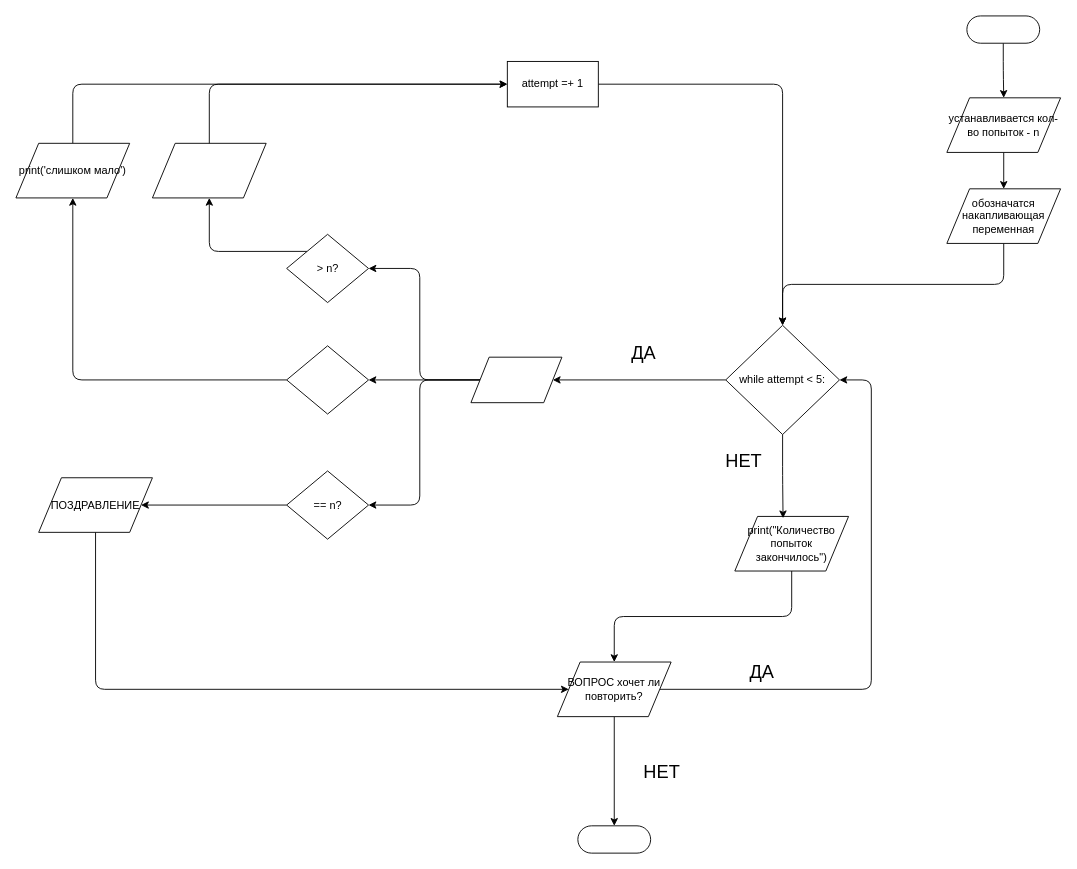
Some shapes in this 1077 by 869 pixel diagram are drawn without their labels. The centre of each missing label's shape, as x and y in pixels:
"< n?" goes at point 327,379.
"конец" goes at point 614,839.
"начало" goes at point 1003,29.
"просим пользователя ввести число" goes at point 516,379.
"слишком много" goes at point 209,170.
